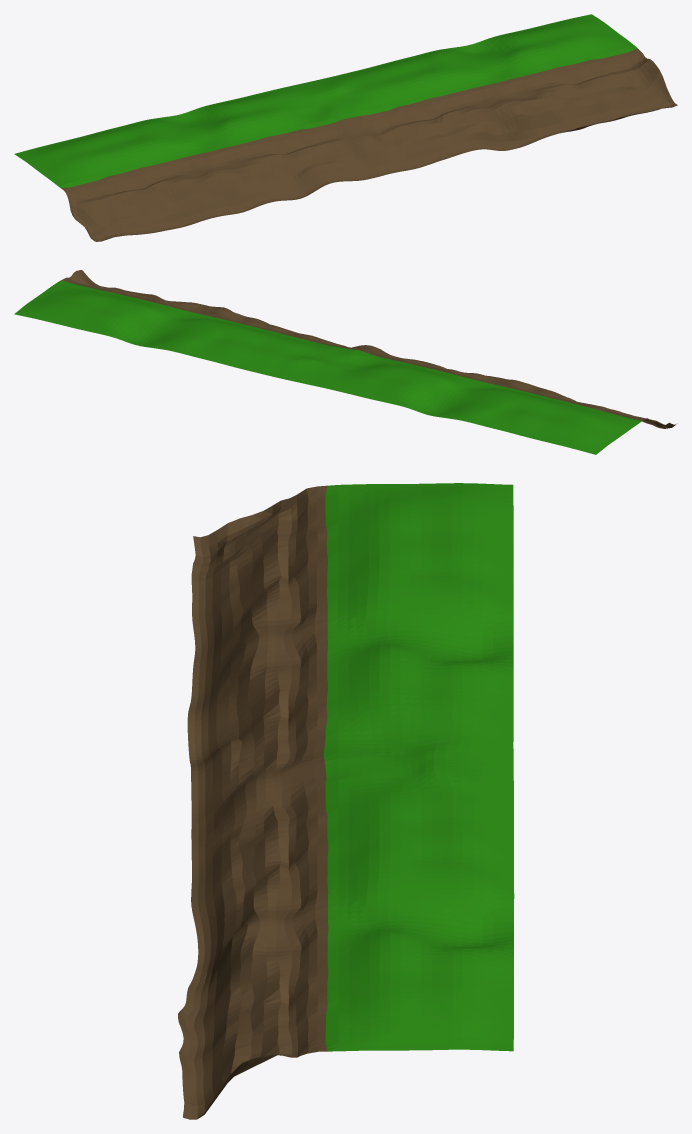
File: Riverbank3.fbx
3 renders of one model, top to bottom at view 1: azimuth 30°, elevation 25°; view 2: azimuth 150°, elevation 25°; view 3: azimuth 270°, elevation 25°, orthographic. The views are drawn at different scales.
Visible parts, largest first — view 1: Plane; view 2: Plane; view 3: Plane.
Part boxes in pixels (bbox=[...]): Plane: bbox=[14, 14, 677, 241]; Plane: bbox=[14, 270, 677, 454]; Plane: bbox=[178, 483, 514, 1119].
Bounding box in the file's own units: 8222 × 649 × 2043.
